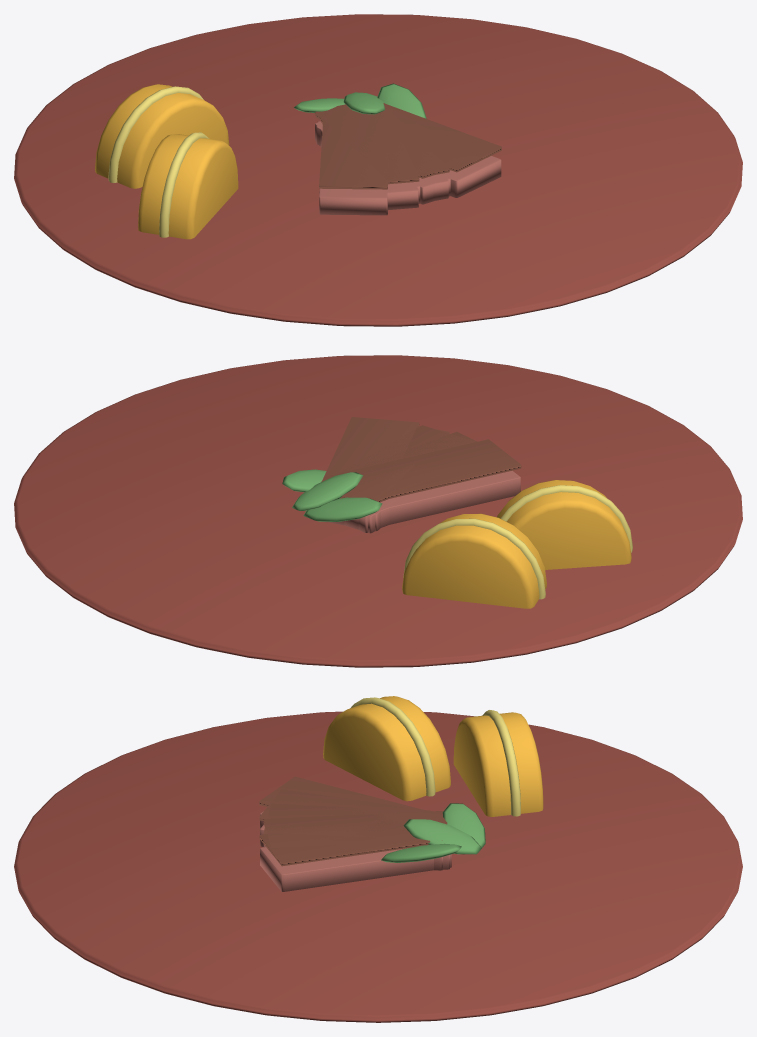
The model's file is DuckBreastAlOrange.gltf.
3 renders of one model, top to bottom at view 1: azimuth 30°, elevation 25°; view 2: azimuth 150°, elevation 25°; view 3: azimuth 270°, elevation 25°, orthographic.
Visible parts, largest first — view 1: Glaze, OrangeSeg_1, OrangeSeg_0, DuckSkin_2, DuckSkin_0, DuckSkin_3, DuckSkin_4, DuckSlice_0, DuckSkin_1, DuckSlice_4, OrangeRind_0, OrangeRind_1 (+6 smaller); view 2: Glaze, OrangeSeg_0, OrangeSeg_1, DuckSkin_0, DuckSkin_4, DuckSlice_0, DuckSkin_1, DuckSkin_2, OrangeRind_0, Herb_2, Herb_0, OrangeRind_1 (+3 smaller); view 3: Glaze, OrangeSeg_1, OrangeSeg_0, DuckSlice_4, DuckSkin_4, DuckSkin_3, DuckSkin_0, DuckSkin_2, DuckSkin_1, Herb_0, OrangeRind_1, OrangeRind_0 (+2 smaller).
Boxes of the visible parts, box(x1,y1,x2,y2) form: Glaze: box(14, 14, 742, 326); OrangeSeg_1: box(138, 134, 238, 239); OrangeSeg_0: box(95, 84, 229, 188); DuckSkin_2: box(314, 104, 449, 179); DuckSkin_0: box(319, 108, 392, 189); DuckSkin_3: box(315, 104, 476, 178); DuckSkin_4: box(321, 103, 501, 172); DuckSlice_0: box(319, 188, 387, 215); DuckSkin_1: box(320, 103, 419, 184); DuckSlice_4: box(448, 156, 501, 197); OrangeRind_0: box(108, 86, 203, 182); OrangeRind_1: box(159, 132, 209, 237); Glaze: box(14, 355, 742, 667); OrangeSeg_0: box(402, 513, 546, 608); OrangeSeg_1: box(497, 480, 631, 569); DuckSkin_0: box(330, 439, 521, 498); DuckSkin_4: box(322, 417, 419, 500); DuckSlice_0: box(389, 470, 520, 524); DuckSkin_1: box(321, 431, 477, 501); DuckSkin_2: box(339, 425, 475, 497); OrangeRind_0: box(403, 518, 545, 599); Herb_2: box(303, 497, 382, 521); Herb_0: box(292, 472, 363, 510); OrangeRind_1: box(500, 485, 632, 552); Glaze: box(14, 711, 742, 1022); OrangeSeg_1: box(323, 696, 450, 801); OrangeSeg_0: box(453, 712, 543, 816); DuckSlice_4: box(260, 847, 451, 891); DuckSkin_4: box(259, 810, 429, 866); DuckSkin_3: box(263, 811, 442, 847); DuckSkin_0: box(259, 776, 444, 827); DuckSkin_2: box(263, 803, 447, 840); DuckSkin_1: box(259, 789, 445, 842); Herb_0: box(403, 819, 481, 854); OrangeRind_1: box(350, 697, 435, 796); OrangeRind_0: box(482, 710, 520, 816).
Size of the model in its own units: 1.7 by 0.344 by 1.7.
